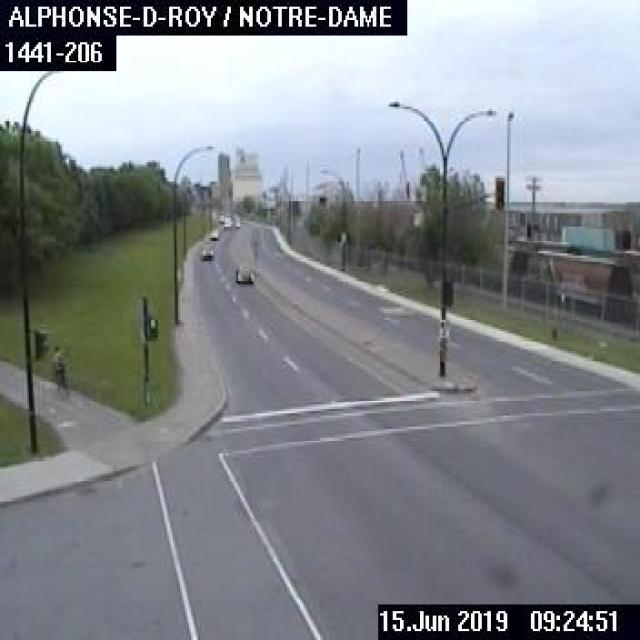pedestrian: (51, 343, 69, 393)
vehicle: (232, 262, 252, 282), (200, 243, 212, 258), (208, 228, 217, 238)
